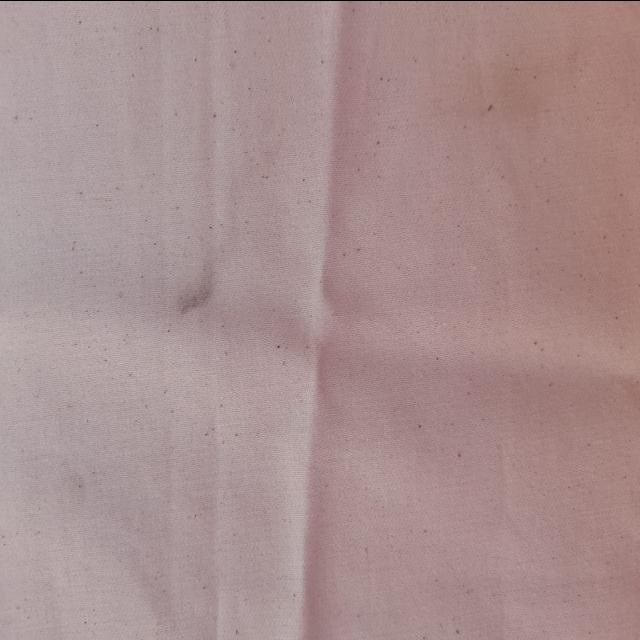taaaches: (168, 249, 224, 330)
